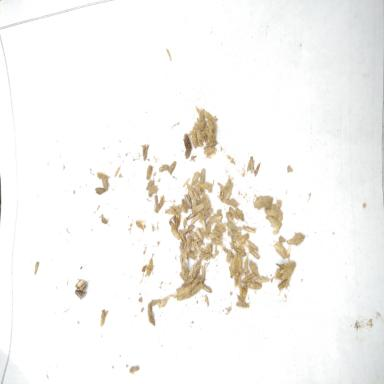pbw: (185, 256, 203, 270), (174, 284, 192, 298), (180, 273, 197, 287), (167, 222, 180, 238), (264, 215, 278, 229), (287, 234, 306, 244), (154, 196, 164, 213), (247, 246, 260, 259), (200, 248, 213, 261), (241, 272, 255, 284), (158, 295, 170, 309), (222, 244, 234, 258), (271, 243, 286, 254), (146, 256, 154, 276), (146, 184, 158, 197), (234, 208, 245, 222), (249, 262, 260, 276), (96, 172, 112, 181), (273, 281, 289, 290), (192, 202, 204, 214), (236, 235, 248, 247), (229, 258, 236, 278), (145, 177, 155, 191), (232, 270, 240, 287), (99, 309, 106, 328), (279, 267, 291, 278), (192, 171, 200, 187), (241, 224, 255, 233), (168, 160, 176, 175), (184, 193, 192, 208), (225, 222, 237, 232), (158, 163, 170, 173), (199, 266, 206, 283), (185, 235, 192, 252), (142, 144, 149, 160), (101, 176, 109, 190), (284, 249, 292, 263), (183, 224, 195, 233), (248, 156, 254, 174), (248, 283, 263, 290), (207, 230, 220, 238), (217, 182, 227, 192), (202, 282, 212, 292), (223, 197, 237, 204), (204, 194, 211, 208), (254, 162, 261, 176), (228, 206, 236, 218), (146, 164, 152, 180), (114, 164, 121, 177), (210, 214, 220, 223), (191, 214, 201, 223), (240, 285, 246, 300), (253, 278, 270, 283), (33, 261, 39, 275), (172, 226, 178, 240), (235, 301, 249, 307), (181, 178, 190, 187), (201, 182, 210, 190), (186, 212, 196, 219), (191, 276, 201, 283), (210, 238, 224, 243), (134, 220, 143, 227), (197, 228, 203, 238), (154, 194, 158, 205)
